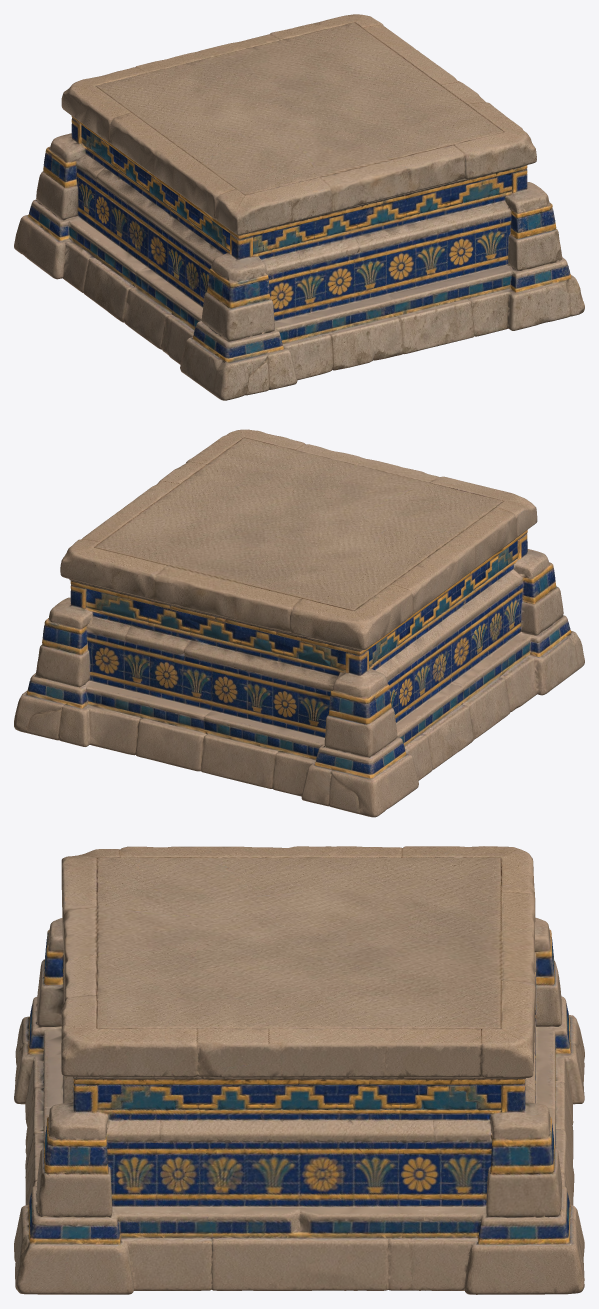
The model's file is azure_altar.glb.
The picture shows the model from 3 angles, top to bottom: view 1: azimuth 30°, elevation 25°; view 2: azimuth 150°, elevation 25°; view 3: azimuth 270°, elevation 25°; orthographic projection. The views are drawn at different scales.
Visible parts, largest first — view 1: mesh_node; view 2: mesh_node; view 3: mesh_node.
Part boxes in pixels (bbox=[...]): mesh_node: bbox=[14, 14, 584, 400]; mesh_node: bbox=[14, 429, 584, 817]; mesh_node: bbox=[14, 846, 584, 1294].
Bounding box in the file's own units: 1.9 × 0.8587 × 1.9.
Materials: 1 (1 with a texture image).
